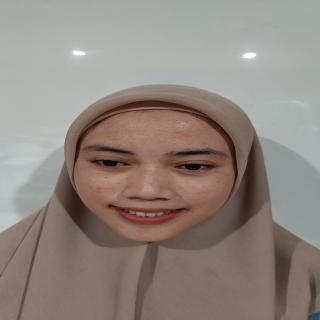Senang: (62, 97, 250, 247)
